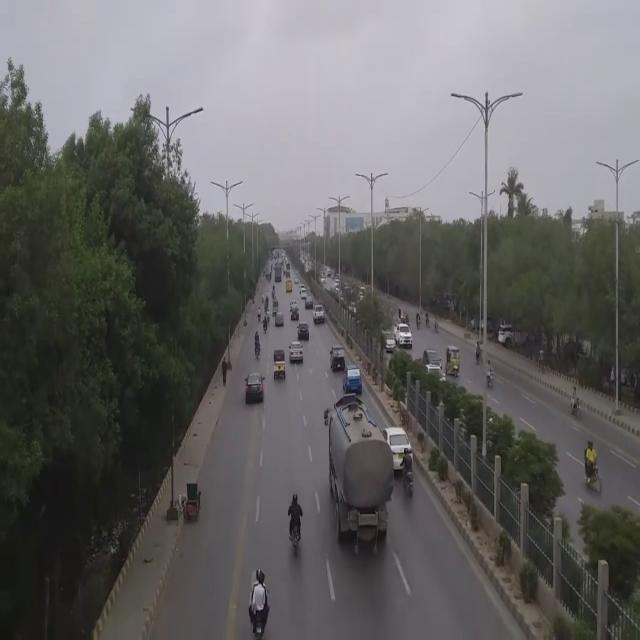car: (341, 359, 367, 400), (243, 372, 263, 403), (395, 326, 414, 348), (329, 347, 344, 372), (288, 342, 304, 363), (289, 303, 301, 324), (275, 309, 285, 333), (313, 307, 325, 323), (304, 293, 314, 311), (298, 326, 310, 340)
motorbike: (244, 562, 272, 640), (581, 437, 606, 503), (287, 487, 306, 564), (402, 446, 418, 500), (484, 358, 497, 390), (569, 382, 579, 420), (474, 339, 484, 368), (253, 329, 261, 361)
truck: (320, 389, 394, 556)
